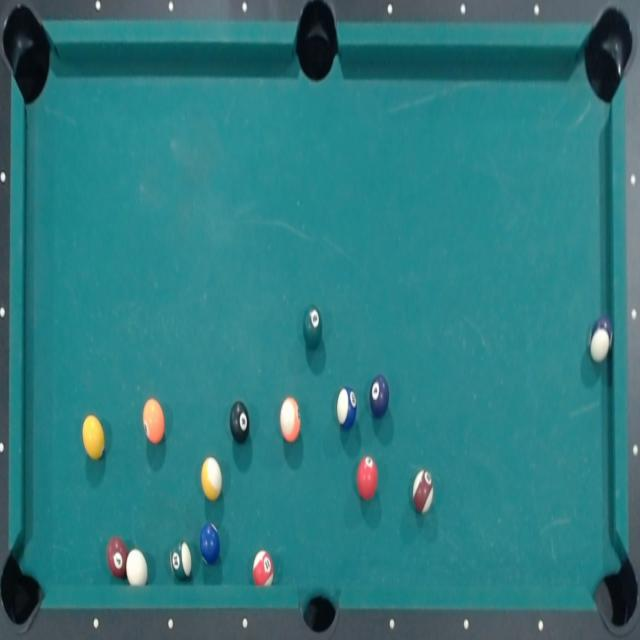black_8ball: (228, 399, 252, 444)
blue_solid: (199, 521, 222, 566)
blue_stripe: (335, 385, 357, 430)
cue_ball: (124, 549, 150, 585)
green_solid: (301, 304, 324, 349)
green_stripe: (169, 539, 194, 581)
maroon_solid: (106, 536, 130, 579)
maroon_stripe: (412, 468, 436, 515)
orange_solid: (141, 397, 167, 445)
orange_stripe: (278, 393, 302, 445)
purple_solid: (368, 372, 392, 420)
purple_stripe: (586, 312, 616, 367)
red_solid: (355, 454, 380, 501)
red_stripe: (251, 548, 275, 588)
yellow_solid: (81, 412, 108, 463)
yellow_stripe: (200, 456, 224, 501)
